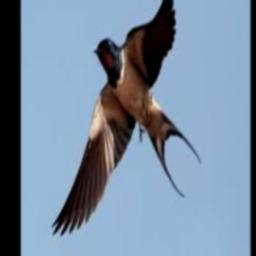Swallow: (51, 0, 200, 235)
